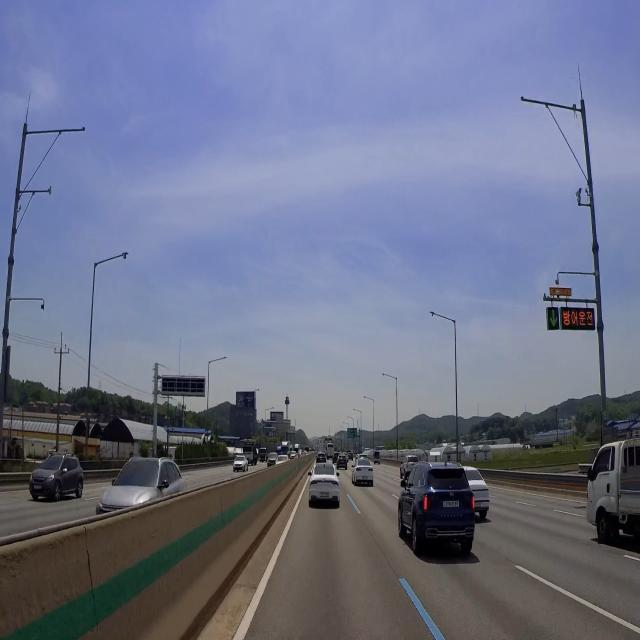car: (441, 498, 465, 516), (319, 488, 331, 504), (473, 498, 485, 513), (31, 483, 46, 494), (359, 473, 372, 483)
